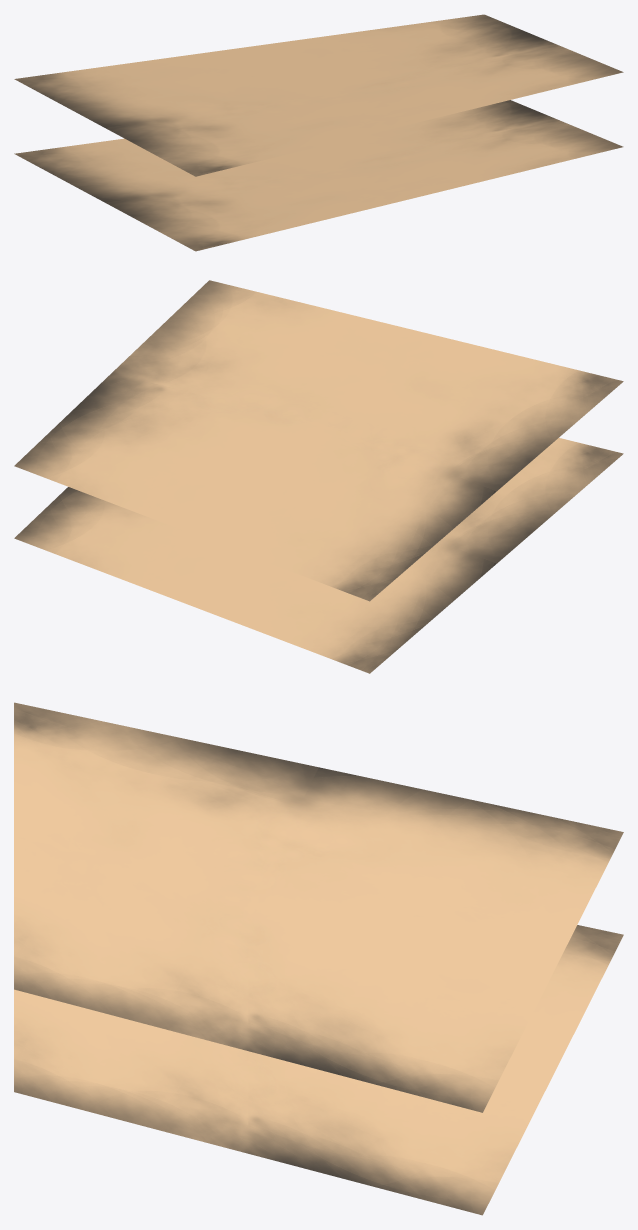
Rendered from CourseSummer_CurveFloor_1_1.fbx.
The picture shows the model from 3 angles, top to bottom: view 1: azimuth 30°, elevation 25°; view 2: azimuth 150°, elevation 25°; view 3: azimuth 270°, elevation 25°; orthographic projection. The views are drawn at different scales.
Visible parts, largest first — view 1: polySurface116, polySurface118; view 2: polySurface116, polySurface118; view 3: polySurface116, polySurface118.
Part boxes in pixels (<box>): polySurface116: <box>14,14,623,176</box>; polySurface118: <box>14,100,623,251</box>; polySurface116: <box>14,280,623,601</box>; polySurface118: <box>14,438,623,673</box>; polySurface116: <box>14,702,623,1112</box>; polySurface118: <box>14,925,623,1215</box>.
Bounding box in the file's own units: 6.44 × 2 × 5.39.
Materials: 1 (1 with a texture image).
